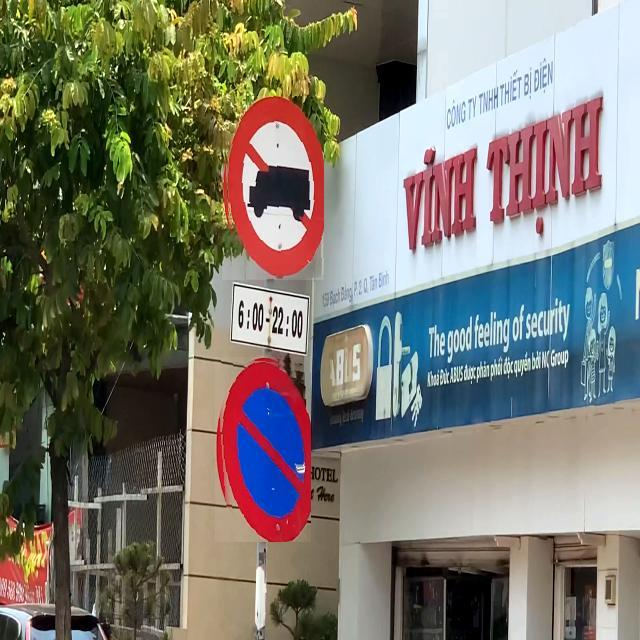P-106a: (222, 96, 324, 280)
P-131a: (215, 357, 311, 542)
